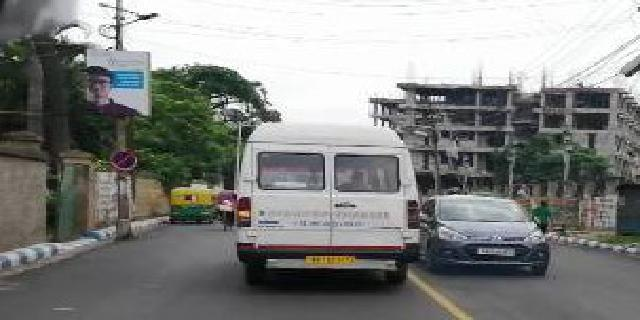Autorickshaw: (168, 181, 215, 229)
Car: (418, 192, 553, 280)
Van: (230, 117, 425, 293)
